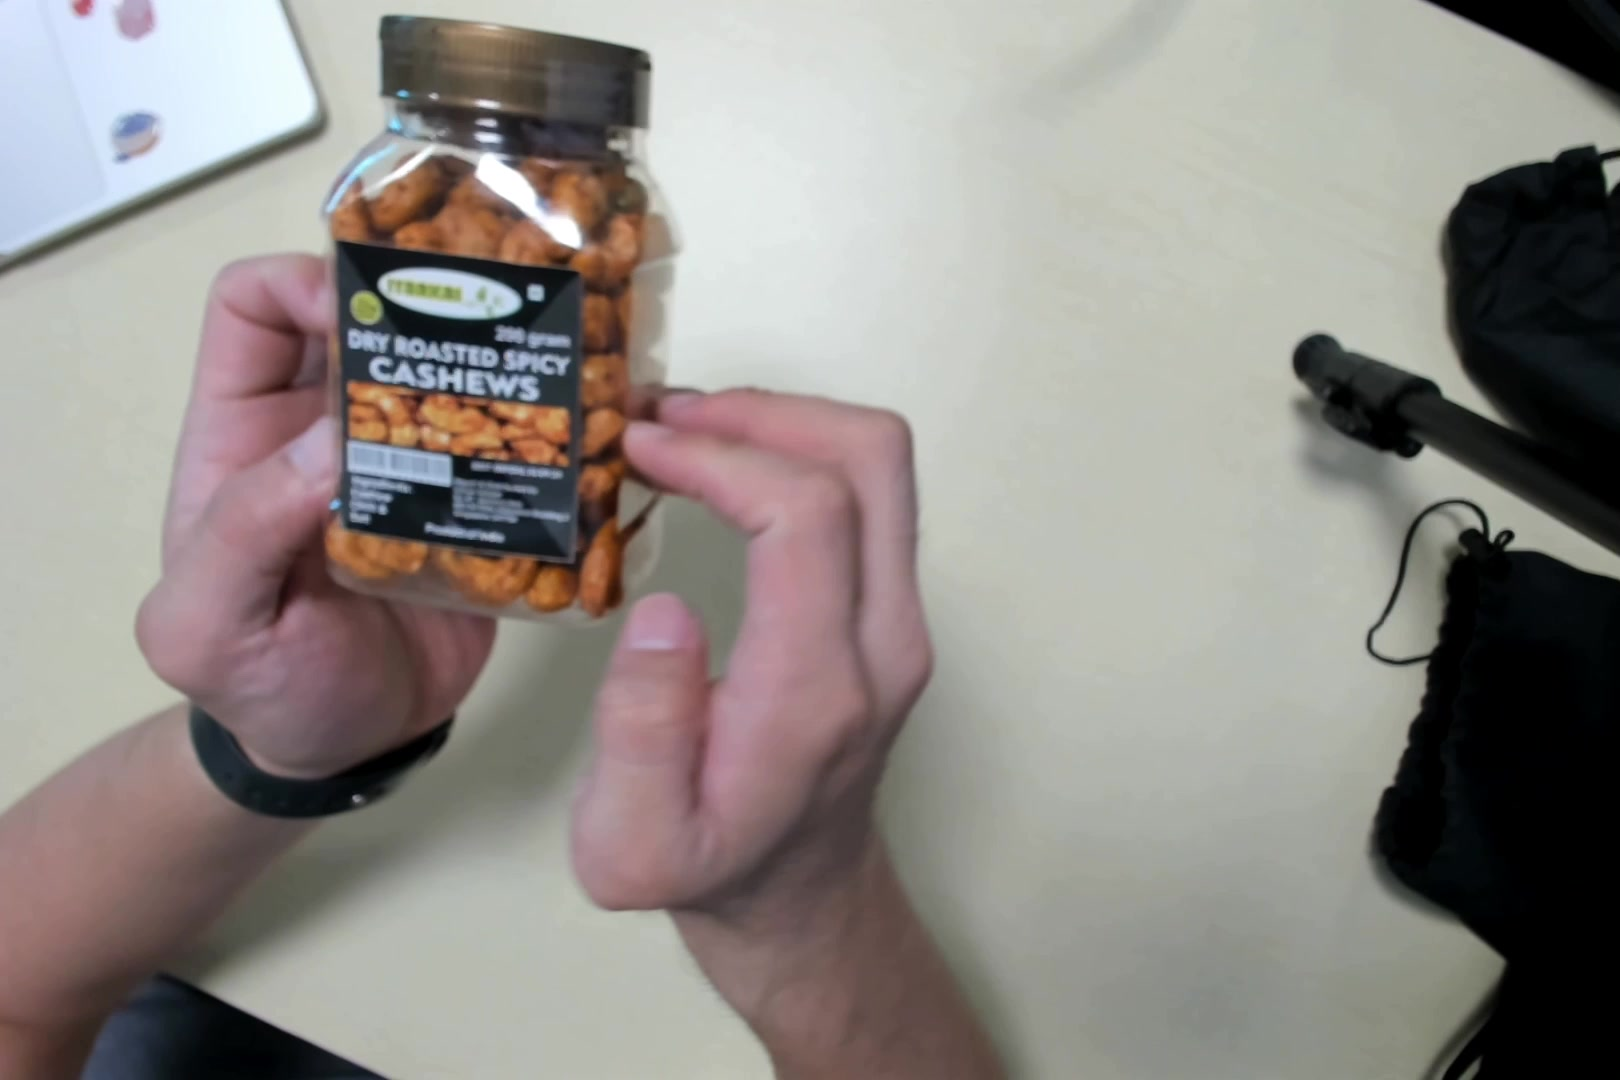Nuts_200-299g_NonHalal_NonHealthy: (321, 29, 676, 615)
